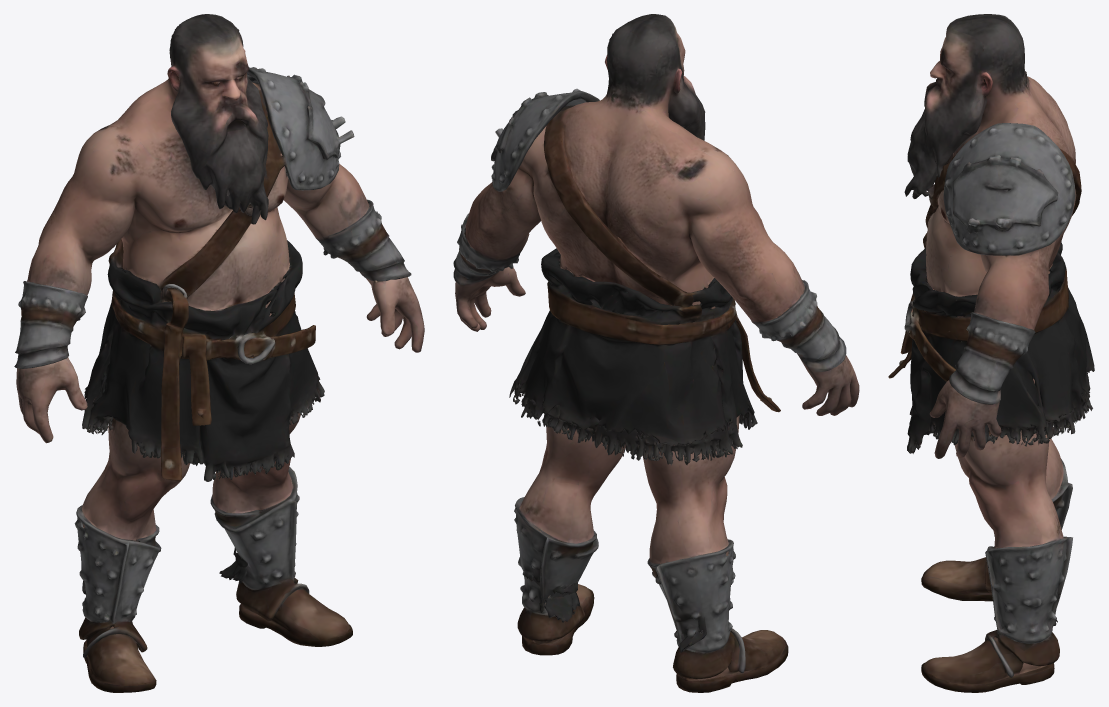
Rendered from dwarf.glb.
3 views of the same model, side by side, from view 1: azimuth 30°, elevation 25°; view 2: azimuth 150°, elevation 25°; view 3: azimuth 270°, elevation 25° (orthographic). The views are drawn at different scales.
Parts seen in each view (by area): view 1: world; view 2: world; view 3: world.
Boxes of the visible parts, box(x1,y1,x2,y2) form: world: box(14, 14, 424, 692); world: box(453, 14, 859, 692); world: box(888, 14, 1094, 692).
Size of the model in its own units: 0.648 by 1 by 0.3029.
1 material, 1 textured.
